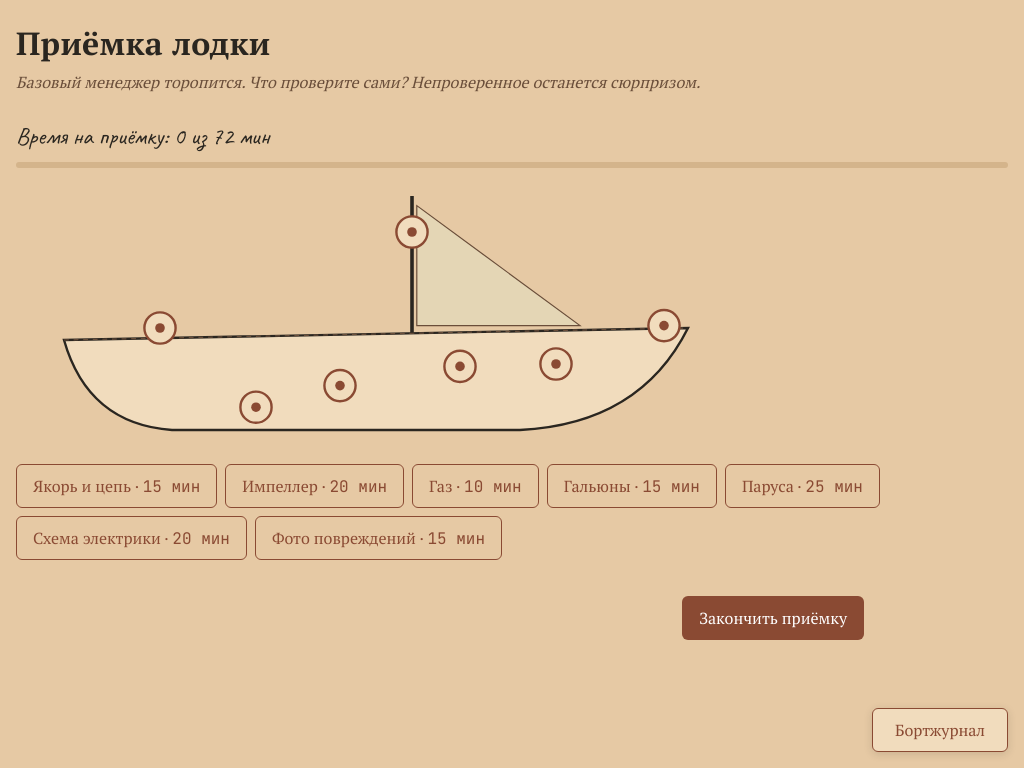
Test: CheckinScreen › spends the attention budget and blocks what does not fit
This screenshot has width=1024, height=768.
Expected: the text "Время на приёмку: 0 из 72 мин" is shown, left=16, top=121, right=269, bottom=151
What coordinates should you click on to do the following:
click the button "Импеллер · 20 мин"
I would click on:
 (315, 486)
Its box is left=225, top=464, right=404, bottom=508.
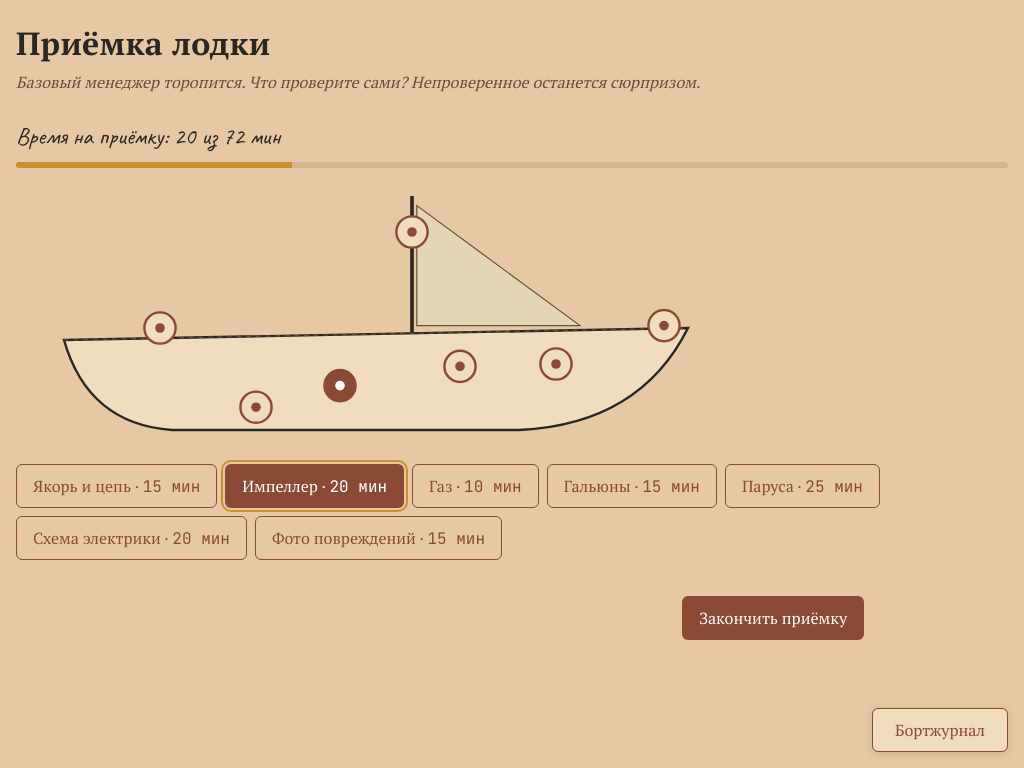
What coordinates should you click on to do the following:
click the button "Паруса · 25 мин"
I would click on:
 (802, 486)
Its box is left=725, top=464, right=880, bottom=508.
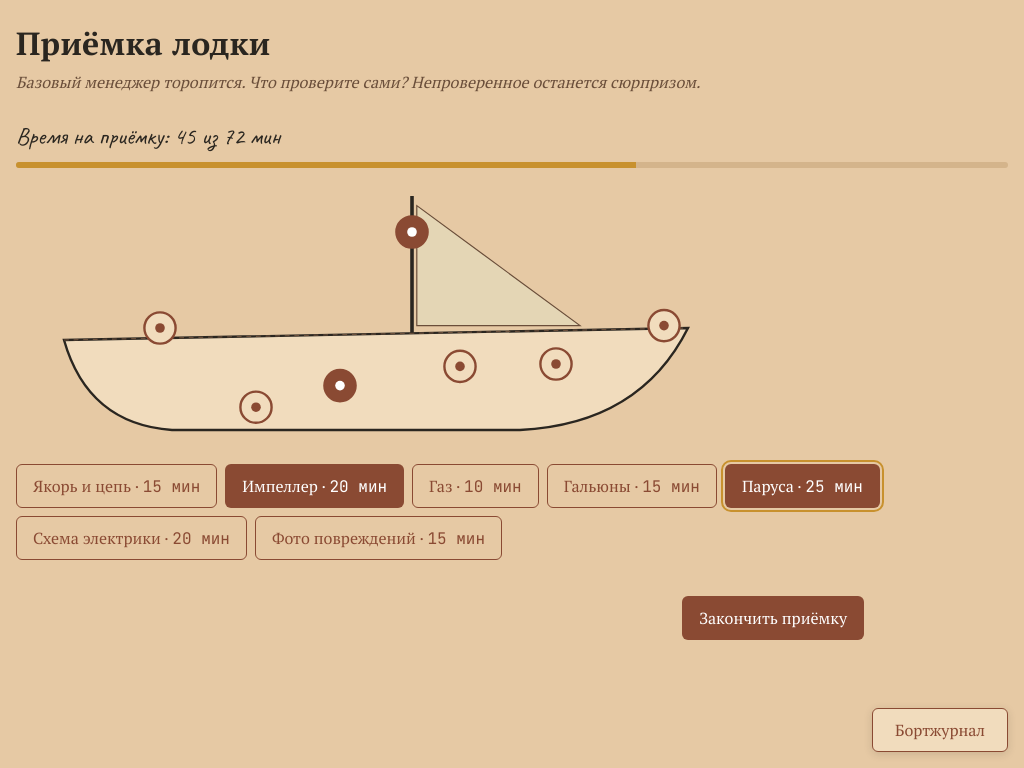
What coordinates should you click on to do the following:
click the button "Схема электрики · 20 мин"
I would click on:
 (132, 538)
Its box is left=16, top=516, right=247, bottom=560.
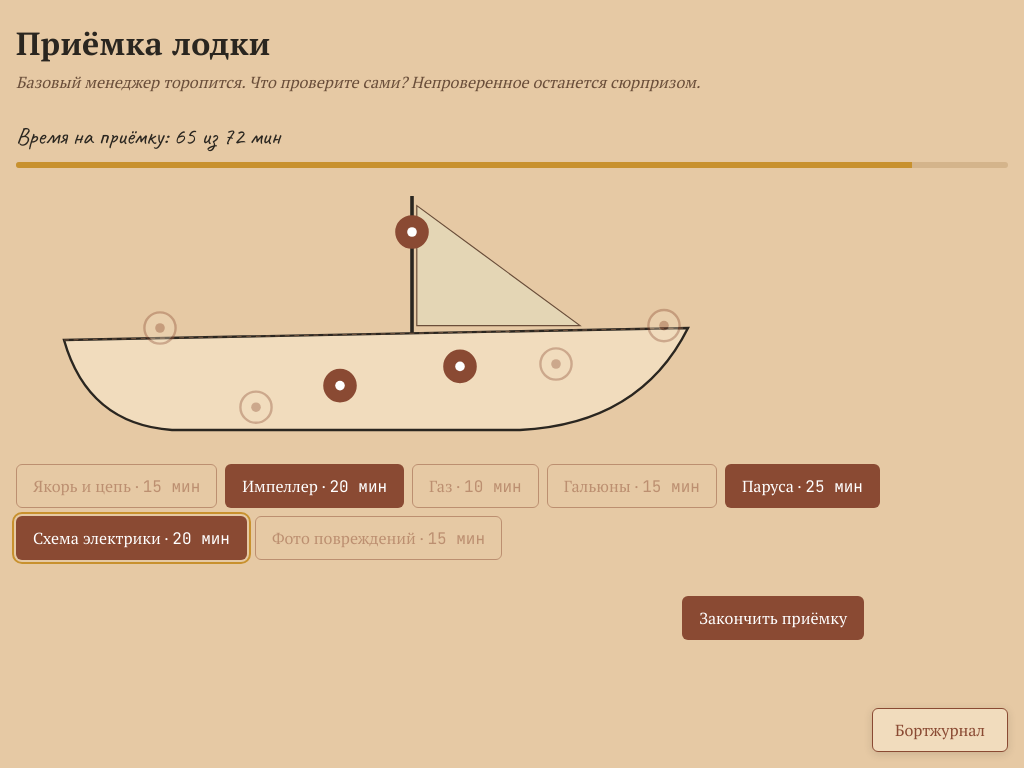
Now the text "Время на приёмку: 65 из 72 мин" is shown, box left=16, top=121, right=280, bottom=151
Now the button "Гальюны · 15 мин" is disabled, box left=547, top=464, right=717, bottom=508
What coordinates should you click on to do the following:
click the button "Импеллер · 20 мин"
I would click on:
 (315, 486)
Its box is left=225, top=464, right=404, bottom=508.
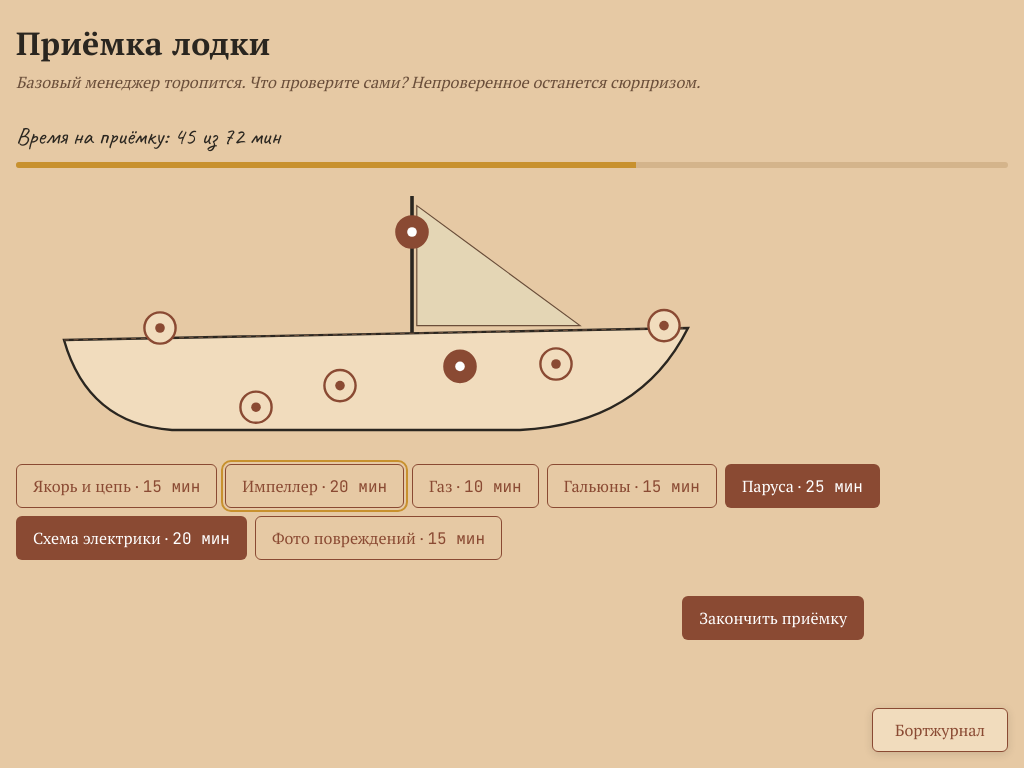
Now the button "Гальюны · 15 мин" is enabled, box left=547, top=464, right=717, bottom=508
